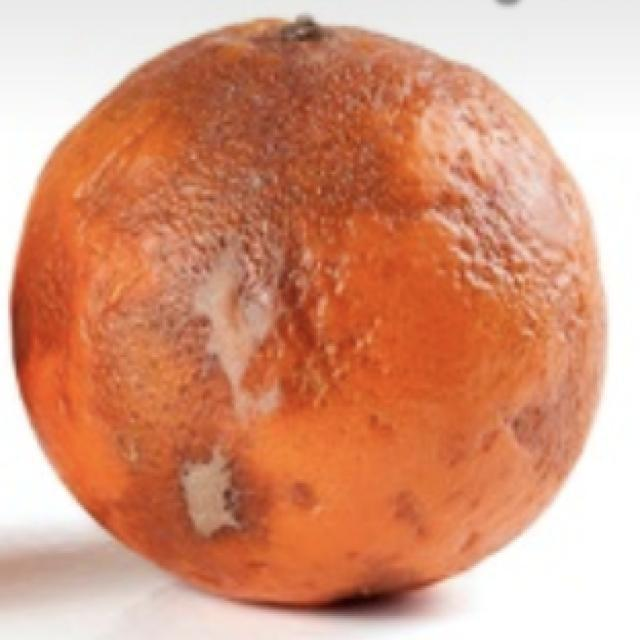sangat-busuk: (12, 18, 604, 604)
